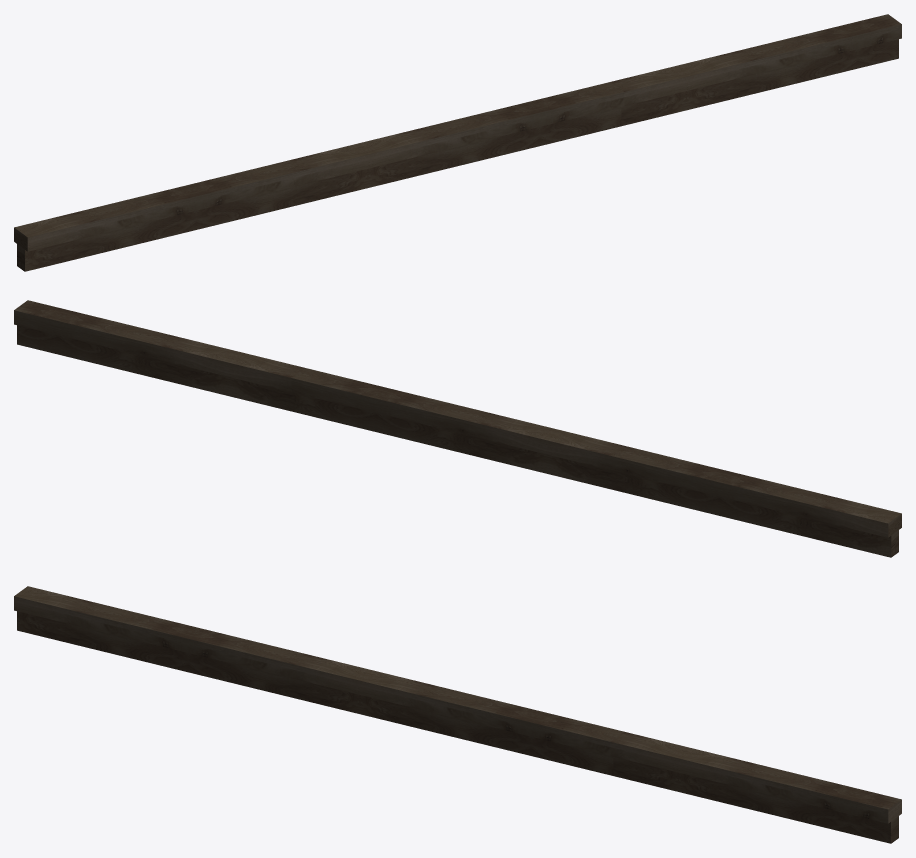
The model's file is SM_Ssang_Dae_Bang_A.fbx.
The picture shows the model from 3 angles, top to bottom: view 1: azimuth 30°, elevation 25°; view 2: azimuth 150°, elevation 25°; view 3: azimuth 330°, elevation 25°; orthographic projection.
Visible parts, largest first — view 1: SM_Ssang_Dae_Bang_A; view 2: SM_Ssang_Dae_Bang_A; view 3: SM_Ssang_Dae_Bang_A.
Boxes of the visible parts, x1,y1,x2,y2 form: SM_Ssang_Dae_Bang_A: (14, 14, 901, 271); SM_Ssang_Dae_Bang_A: (14, 300, 901, 557); SM_Ssang_Dae_Bang_A: (14, 586, 901, 843).
Bounding box in the file's own units: 1968 × 78.36 × 53.84.
